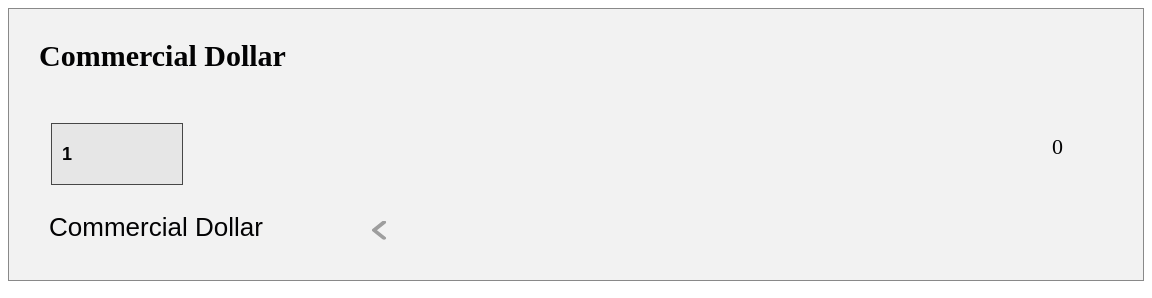
Scenario: modal context › should show error message with invalid input
Replace the text in the field with test id "input-amount" with "d10". click: (117,154)
box: [51,123,183,185]
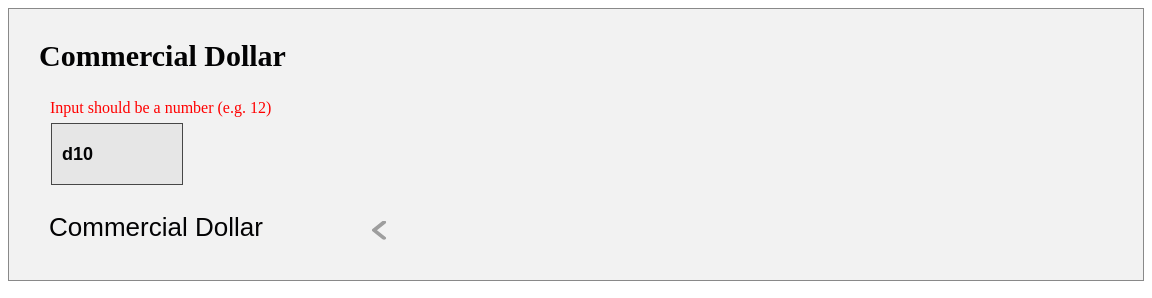
Result: the text "Input should be a number (e.g. 12)" is shown at [50,99,271,116]
